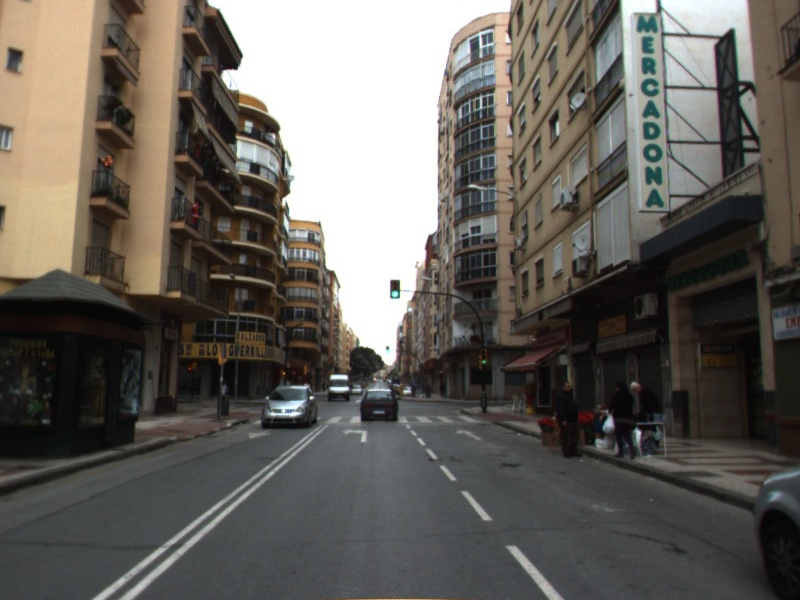LEFT: (340, 427, 369, 444)
STRAIGHT: (454, 427, 483, 442)
